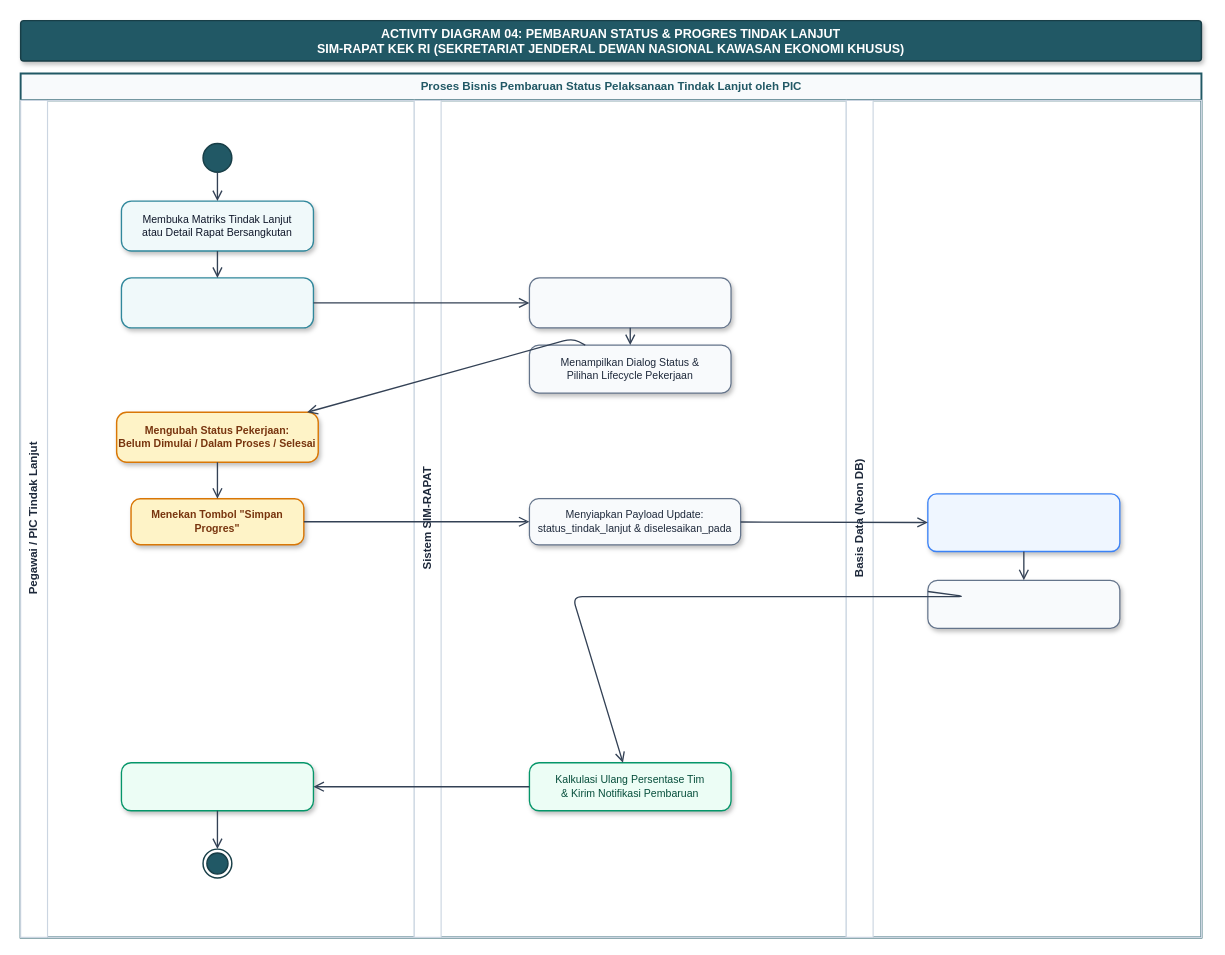
This 1225x955 diagram has some shape labels left out. Here are the shapes that lost their labels. From the top down, the centre of each, then its label:
At [217,304]: "Memilih Butir Pekerjaan yang Ditugaskan ke Diri / Timnya".
At [631,304]: "Memvalidasi Hak Akses PIC / Admin pada Butir Tindak Lanjut".
At [1024,523]: "Update Record tindak_lanjut: status = :status, diselesaikan_pada = NOW()".
At [1024,605]: "Insert ke tabel riwayat log (Audit Trail Pembaruan Status)".
At [217,788]: "Melihat Badge Status Terbarui: Finish / Dalam Proses / Belum Mulai".
